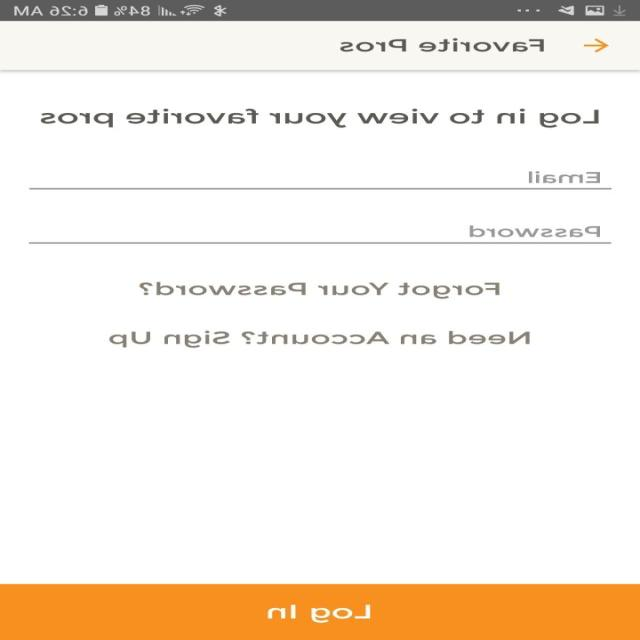EditText: (29, 170, 612, 190), (29, 225, 612, 245)
Icon: (583, 38, 610, 53)
Text: (41, 108, 599, 128), (109, 330, 531, 348), (140, 281, 500, 299), (340, 37, 545, 52), (469, 225, 601, 237), (528, 170, 601, 183)
TextButton: (1, 584, 640, 640)
